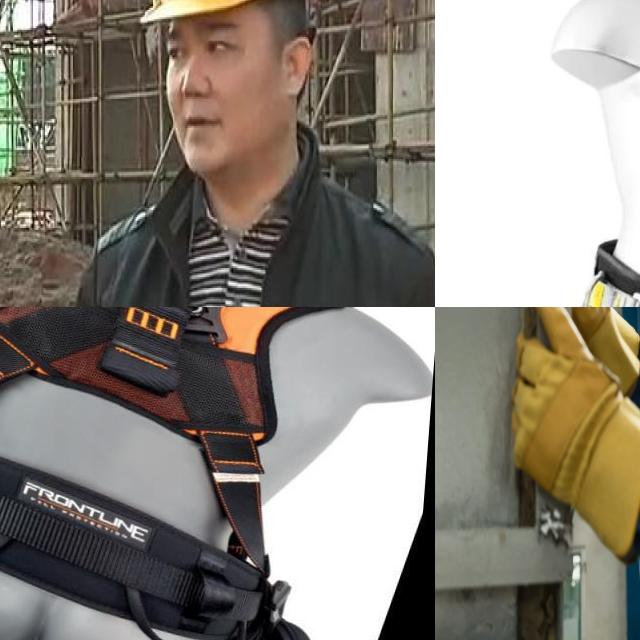Harness: (0, 307, 352, 640)
No_Ear-Protection: (270, 28, 324, 104)
No_Glasses: (158, 12, 252, 80)
hand_glove: (505, 307, 640, 535), (552, 307, 640, 383)
